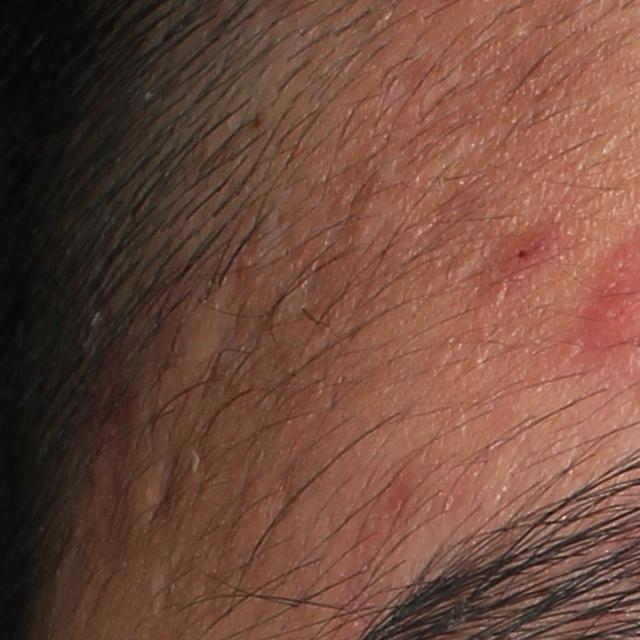atrophic_scar: (149, 161, 399, 517), (148, 555, 181, 620)
comedo: (504, 20, 528, 48)
